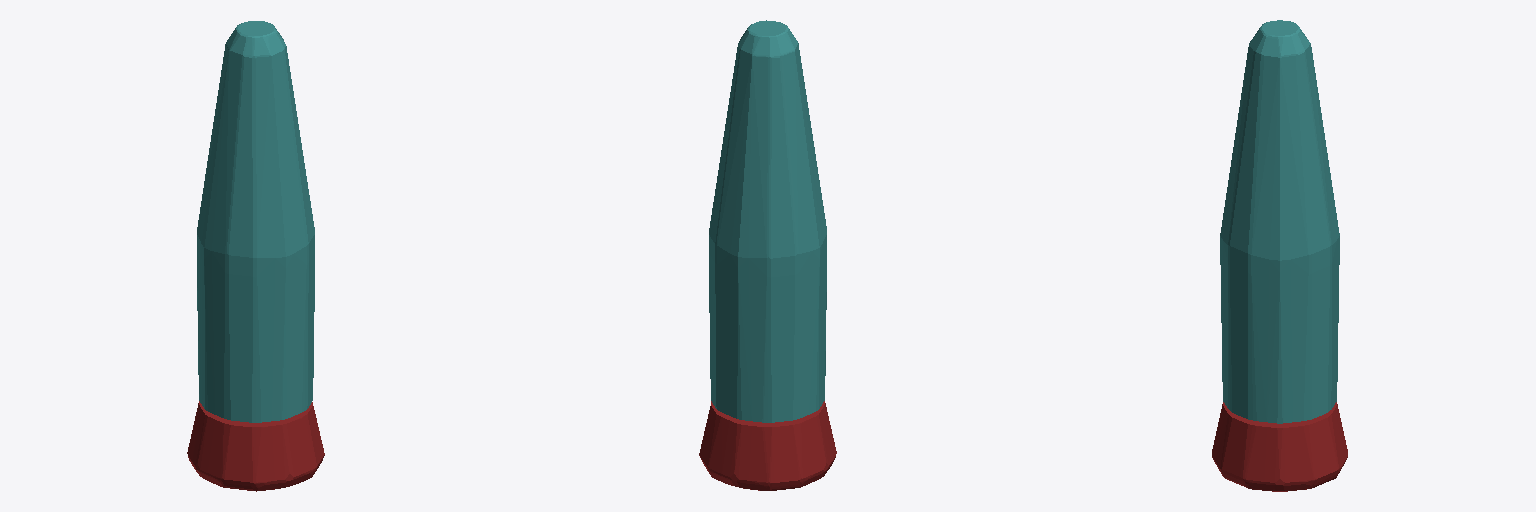
robot.urdf — root:
<robot name="root">
  <link name="bottle_body">
    <inertial>
      <origin xyz="0 0 0" rpy="0 0 0"/>
    </inertial>
    <mass value="1.00E-02"/>
    <visual>
      <origin xyz="0 0 0" rpy="0 0 0"/>
      <geometry>
        <mesh filename="core-bottle-8a980192662f95b84f42eadbd9a0b820-coacd_convex_piece_1.obj" scale="1.0000E-01 1.0000E-01 1.0000E-01"/>
      </geometry>
      <material name="">
        <color rgba="6.00E-01 2.00E-01 2.00E-01 1"/>
      </material>
    </visual>
    <collision>
      <origin xyz="0 0 0" rpy="0 0 0"/>
      <geometry>
        <mesh filename="core-bottle-8a980192662f95b84f42eadbd9a0b820-coacd_convex_piece_1.obj" scale="1.0000E-01 1.0000E-01 1.0000E-01"/>
      </geometry>
    </collision>
  </link>
  <link name="bottle_cap">
    <origin xyz="0 0 0.002" rpy="0 0 0"/>
    <mass value="1.00E-02"/>
    <visual>
      <origin xyz="0 0 0.002" rpy="0 0 0"/>
      <geometry>
        <mesh filename="core-bottle-8a980192662f95b84f42eadbd9a0b820-coacd_convex_piece_0.obj" scale="1.0000E-01 1.0000E-01 1.0000E-01"/>
      </geometry>
      <material name="">
        <color rgba="3.00E-01 6.00E-01 6.00E-01 1"/>
      </material>
    </visual>
    <collision>
      <origin xyz="0 0 0.002" rpy="0 0 0"/>
      <geometry>
        <mesh filename="core-bottle-8a980192662f95b84f42eadbd9a0b820-coacd_convex_piece_0.obj" scale="1.0000E-01 1.0000E-01 1.0000E-01"/>
      </geometry>
    </collision>
  </link>
  <joint name="bottle_cap_joint" type="revolute">
    <origin xyz="0 0 0" rpy="0 0 0"/>
    <parent link="bottle_body"/>
    <child link="bottle_cap"/>
    <axis xyz="0 0 1"/>
    <limit lower="0.00" upper="6.28"/>
    <dynamics damping="0.05"/>
  </joint>
</robot>

--- What the picture shows (computed from the rendered views, not written in the file) ---
The picture shows the robot from 3 angles, left to right: view 1: azimuth 30°, elevation 25°; view 2: azimuth 150°, elevation 25°; view 3: azimuth 270°, elevation 25°; orthographic projection.
Robot: root — 2 links, 1 joints (1 revolute); root link bottle_body; default pose: all joints at 0.
Links seen in each view (by area): view 1: bottle_cap, bottle_body; view 2: bottle_cap, bottle_body; view 3: bottle_cap, bottle_body.
Boxes of the visible links, x1,y1,x2,y2 form: bottle_cap: (197,21,314,422); bottle_body: (187,401,324,491); bottle_cap: (709,20,826,422); bottle_body: (699,401,836,490); bottle_cap: (1220,20,1339,423); bottle_body: (1212,402,1347,491).
Bounding box of the posed robot: 0.0536 × 0.0536 × 0.1917 m (x, y, z).
Meshes: 2 distinct files referenced, 2 mesh visuals loaded (2 OBJ).